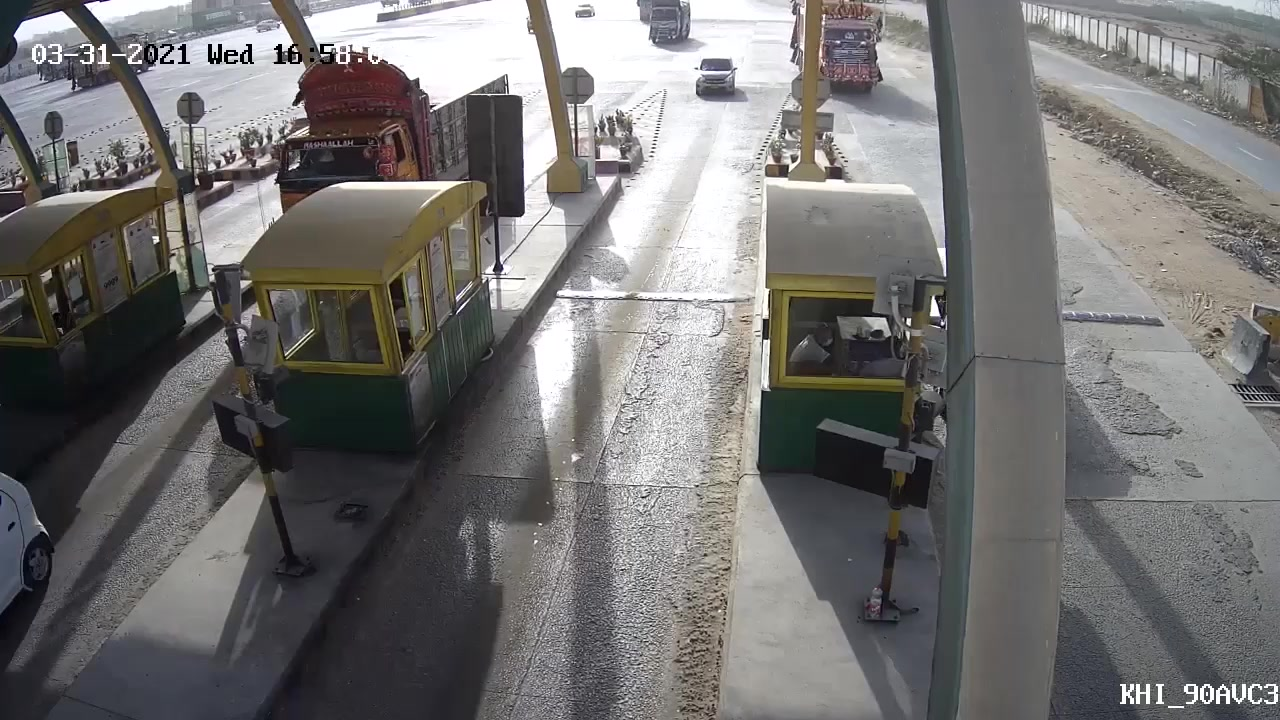F1: (687, 56, 747, 96)
